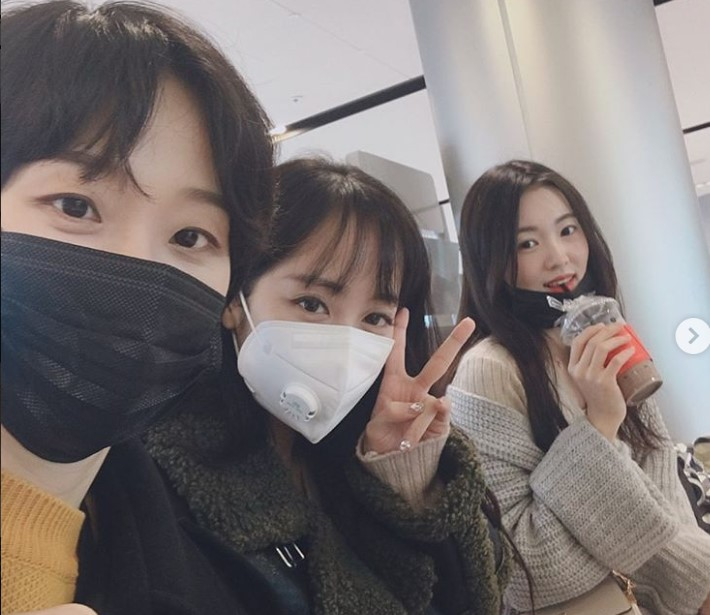face_with_mask: (6, 11, 261, 470), (231, 164, 414, 446), (463, 165, 598, 329)
